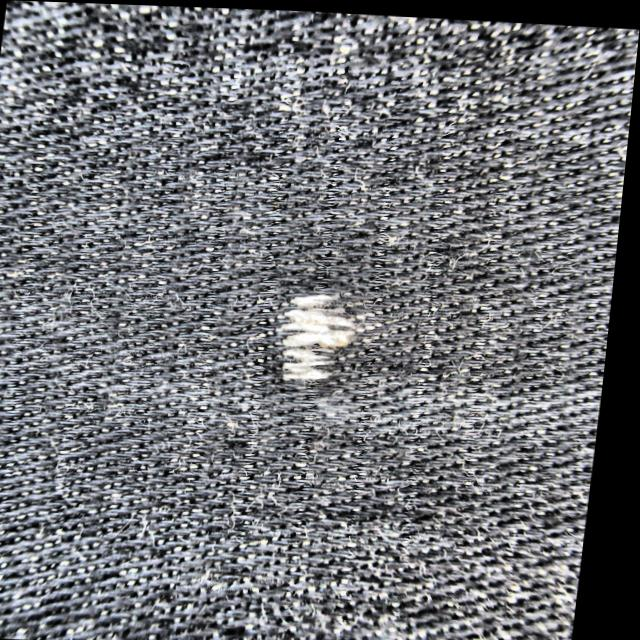Hole: (287, 290, 359, 379)
